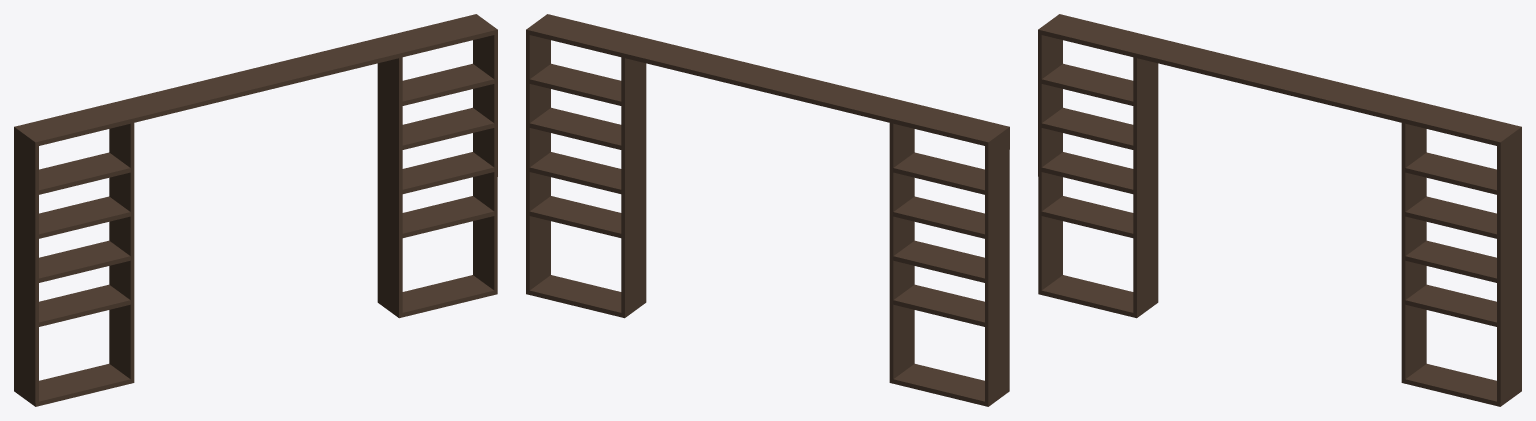
The model's file is PrateleiraLivros.fbx.
3 renders of one model, left to right at view 1: azimuth 30°, elevation 25°; view 2: azimuth 150°, elevation 25°; view 3: azimuth 330°, elevation 25°, orthographic.
Visible parts, largest first — view 1: Cube.003; view 2: Cube.003; view 3: Cube.003.
Boxes of the visible parts, x1,y1,x2,y2 form: Cube.003: (14,14,497,406); Cube.003: (526,14,1009,406); Cube.003: (1038,14,1521,406).
Bounding box in the file's own units: 430 × 235 × 34.4.
